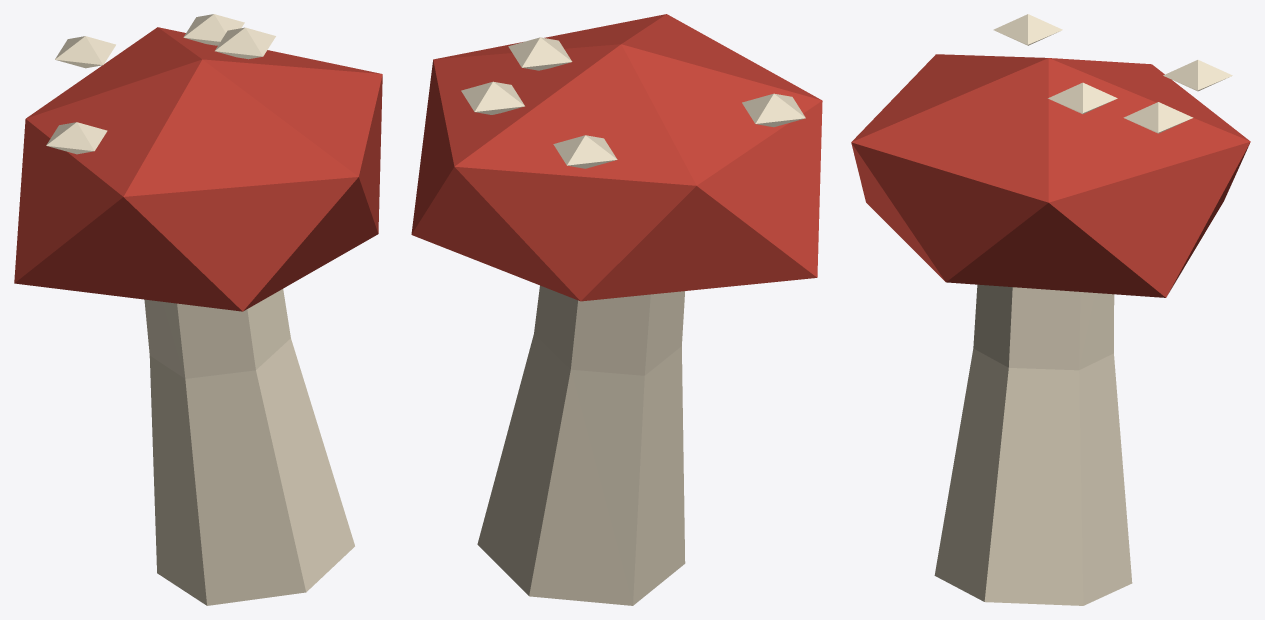
Rendered from HS_LP_Mushroom_Red_02.fbx.
3 renders of one model, left to right at view 1: azimuth 30°, elevation 25°; view 2: azimuth 150°, elevation 25°; view 3: azimuth 270°, elevation 25°, orthographic. The views are drawn at different scales.
Parts seen in each view (by area): view 1: HS_LP_Mushroom_Red_02; view 2: HS_LP_Mushroom_Red_02; view 3: HS_LP_Mushroom_Red_02.
Boxes of the visible parts, x1,y1,x2,y2 form: HS_LP_Mushroom_Red_02: (14, 14, 382, 605); HS_LP_Mushroom_Red_02: (411, 14, 822, 605); HS_LP_Mushroom_Red_02: (851, 14, 1250, 605).
Size of the model in its own units: 17.98 by 24.43 by 17.11.
